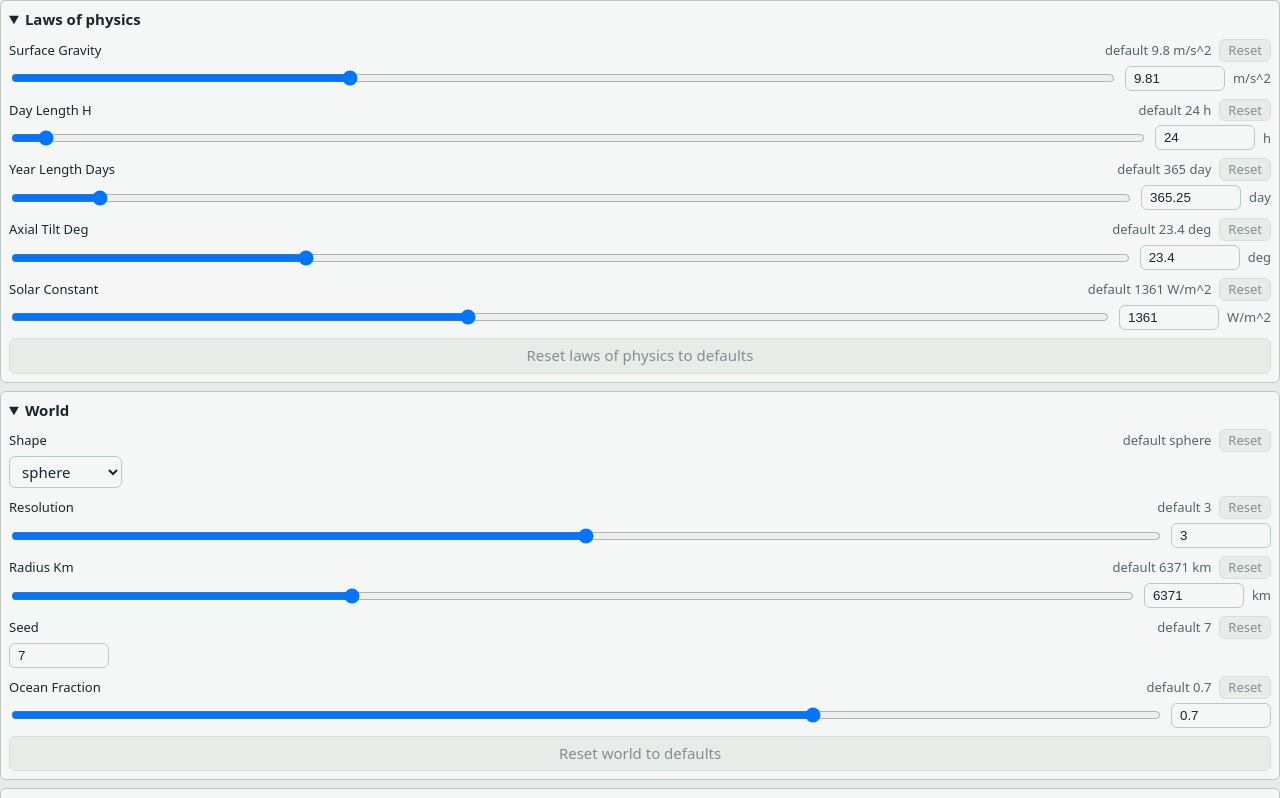
Test case: generated parameter panel › a value the core rejects is shown next to its control, not clamped
Replace the text in the number field labelled "axial tilt deg" with "120": (1190, 258) [1140, 245, 1240, 270]
Wait 150 ms
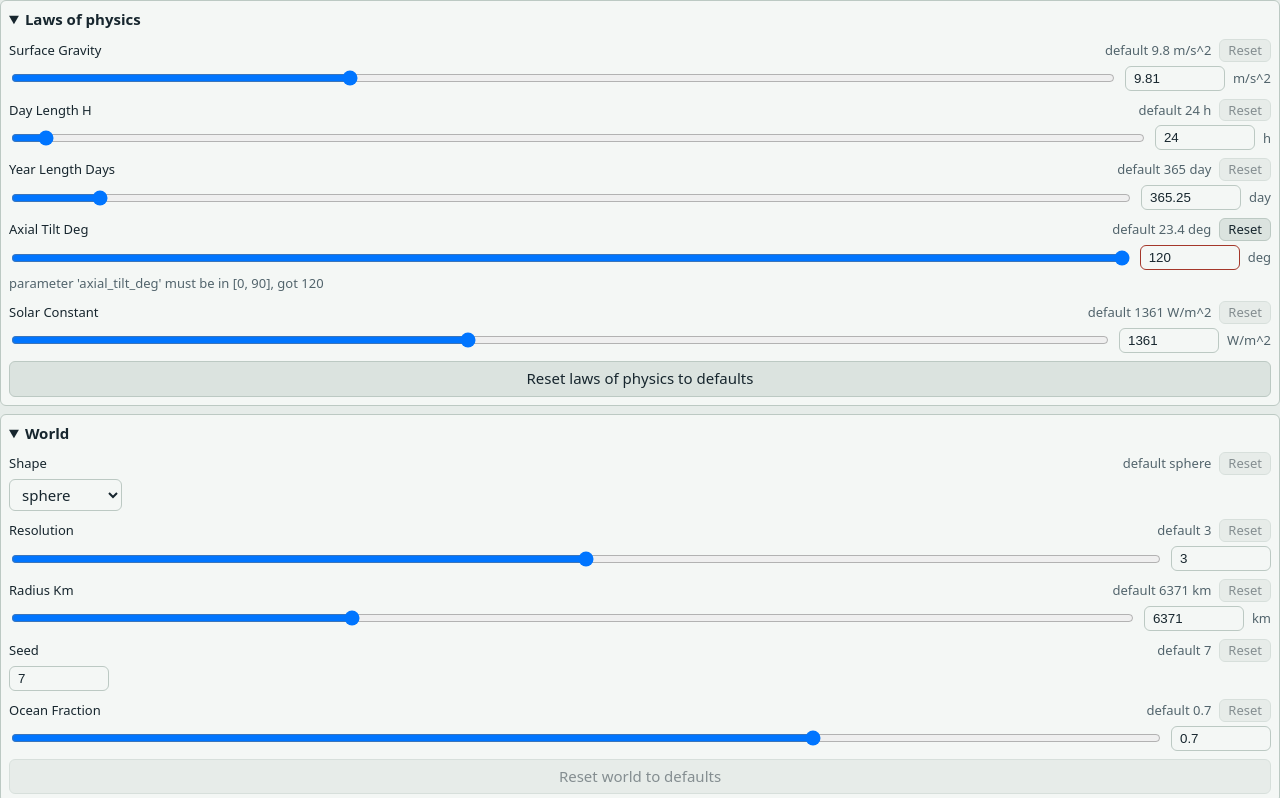
Result: the message shows "axial_tilt_deg" at [9, 274, 324, 292]
Result: the message shows "[0, 90]" at [9, 274, 324, 292]
Replace the text in the number field labelled "axial tilt deg" with "45": (1190, 258) [1140, 245, 1240, 270]
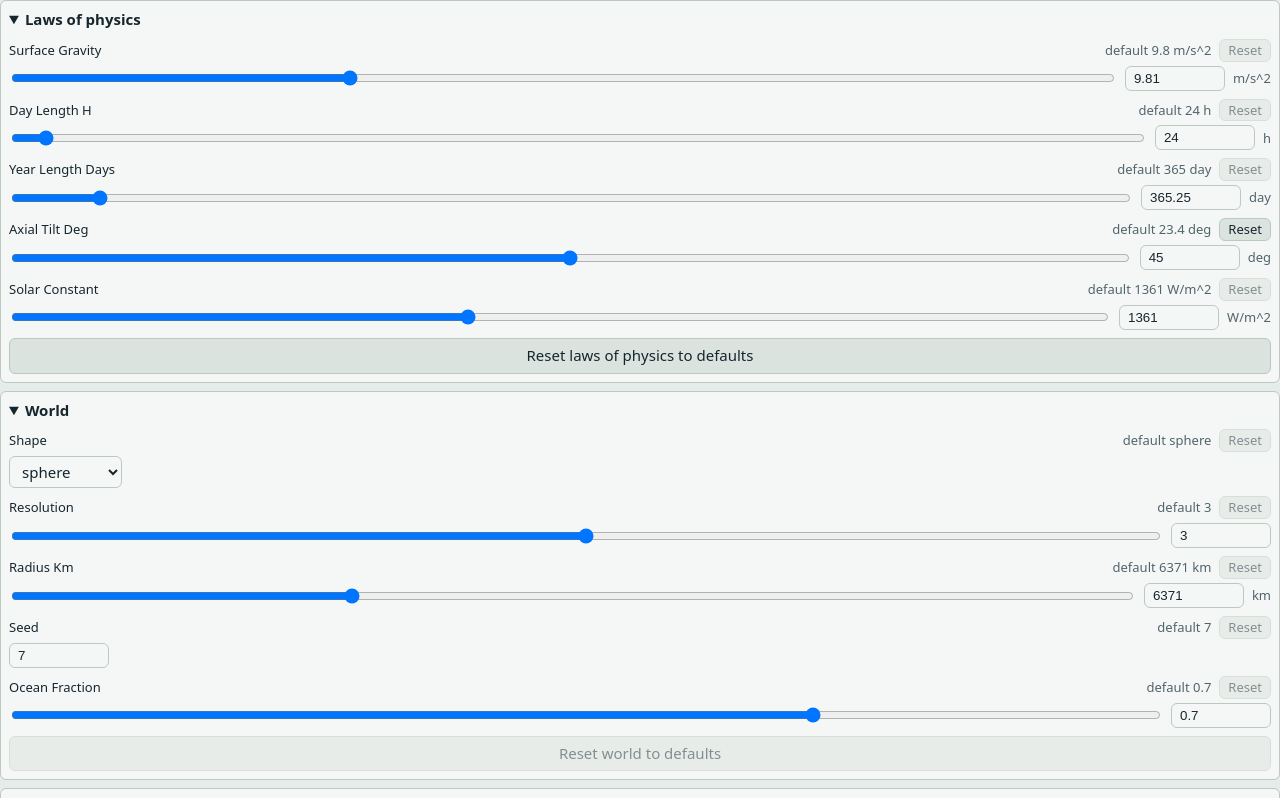
Result: the message "parameter 'axial_tilt_deg' must be in [0, 90], got 120" is gone
